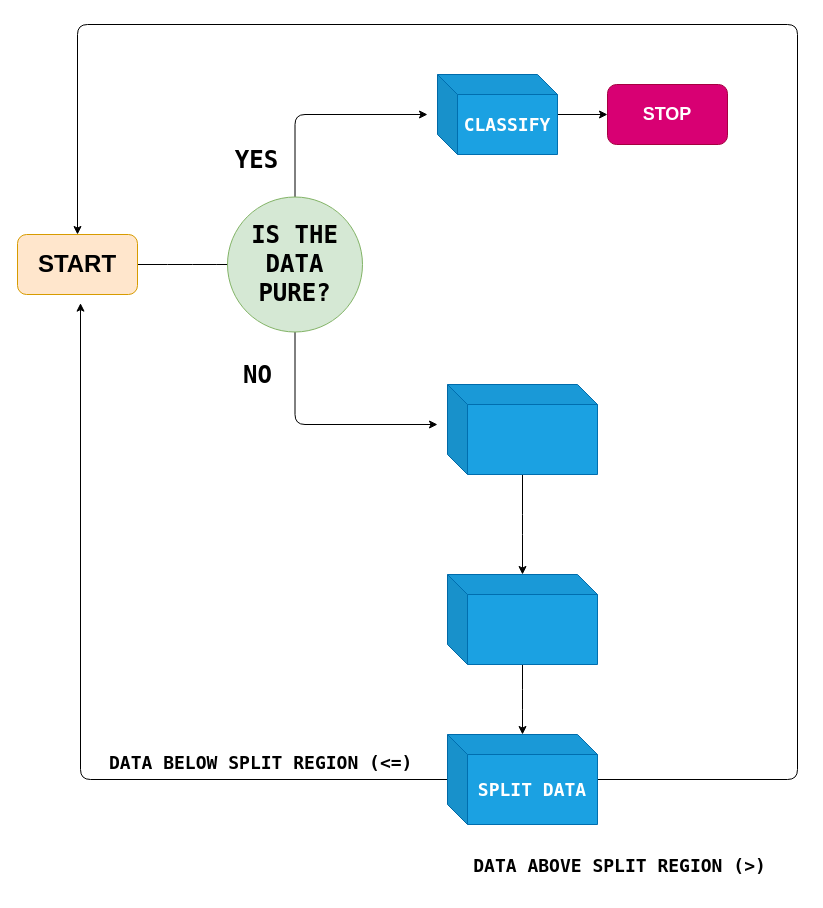
The diagram is 823 pixels wide and 908 high, and some of its shapes have lost their labels. Each missing label, with the centre of its shape:
LOWEST ENTROPY: pixel 522 619
POTENTIAL SPLITS: pixel 522 429
